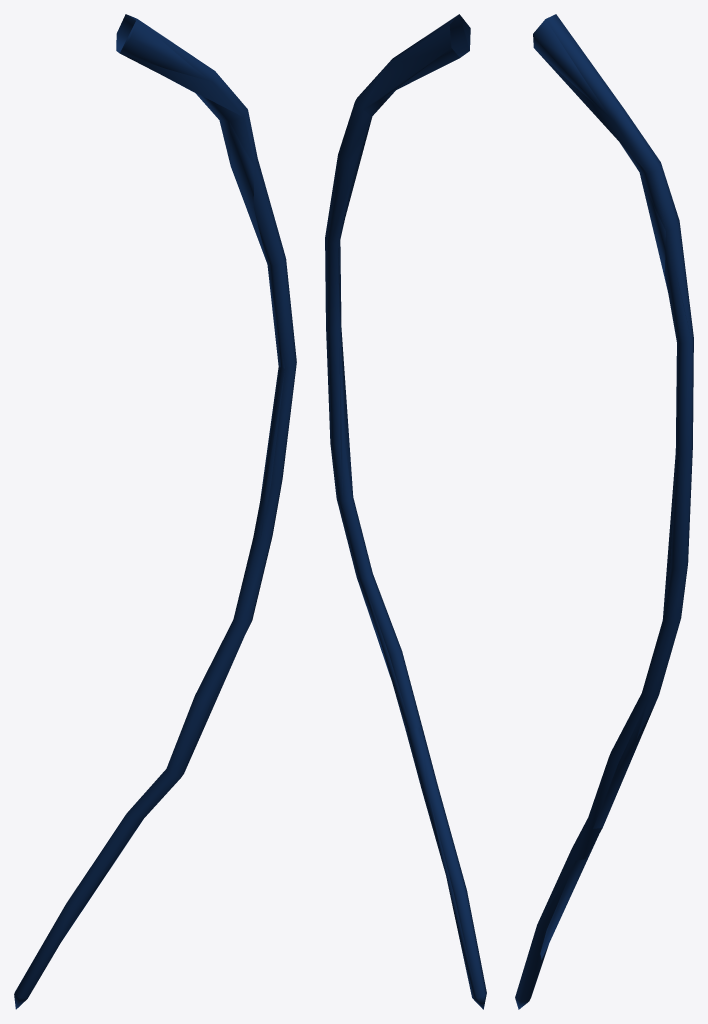
File: L vena ramus cranialis.fbx
The picture shows the model from 3 angles, left to right: view 1: azimuth 30°, elevation 25°; view 2: azimuth 150°, elevation 25°; view 3: azimuth 330°, elevation 25°; orthographic projection. The views are drawn at different scales.
Visible parts, largest first — view 1: L vena ramus cranialis, L vena ramus cranialis low; view 2: L vena ramus cranialis, L vena ramus cranialis low; view 3: L vena ramus cranialis, L vena ramus cranialis low.
Boxes of the visible parts, box(x1,y1,x2,y2) form: L vena ramus cranialis: box(14, 14, 296, 1009); L vena ramus cranialis low: box(62, 19, 284, 940); L vena ramus cranialis: box(325, 14, 486, 1009); L vena ramus cranialis low: box(337, 14, 477, 998); L vena ramus cranialis: box(515, 19, 693, 1009); L vena ramus cranialis low: box(534, 14, 687, 986).
Size of the model in its own units: 3.62 by 15.5 by 1.79.
